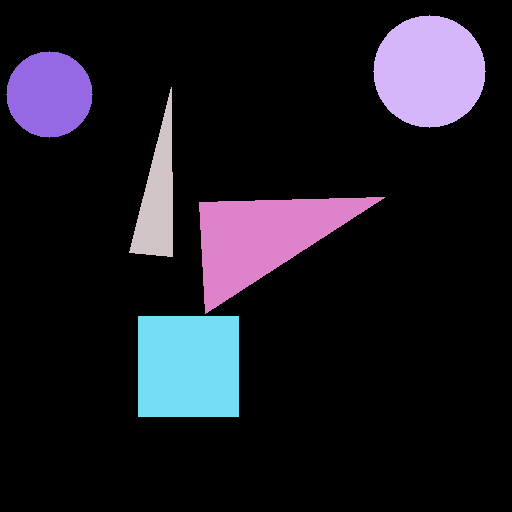circle: (373, 15, 485, 127), (6, 51, 92, 137)
square: (138, 316, 238, 416)
triangle: (199, 197, 384, 313), (129, 87, 172, 256)
